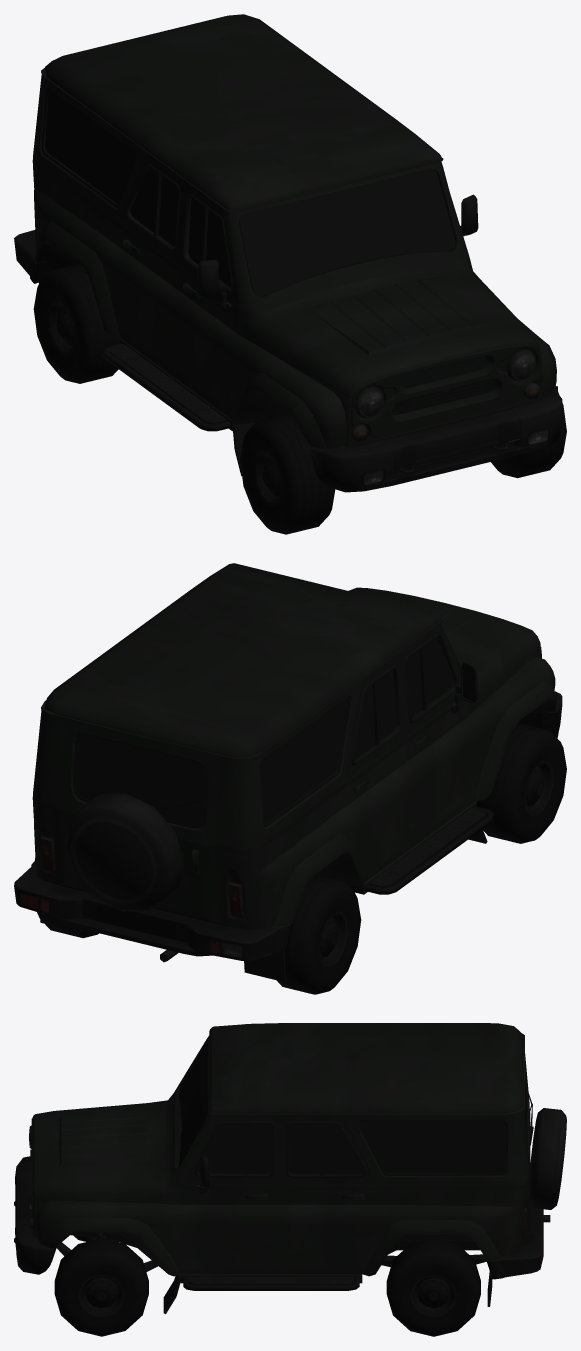
Rendered from UAZ_Explosion.FBX.
3 renders of one model, top to bottom at view 1: azimuth 30°, elevation 25°; view 2: azimuth 150°, elevation 25°; view 3: azimuth 270°, elevation 25°, orthographic. The views are drawn at different scales.
Parts seen in each view (by area): view 1: UAZ_Explosion, UAZ_wheel_FR, UAZ_wheel_RR, UAZ_wheel_FL; view 2: UAZ_Explosion, UAZ_wheel_FR, UAZ_wheel_RR; view 3: UAZ_Explosion, UAZ_wheel_FL, UAZ_wheel_RL.
Part boxes in pixels (x1,y1,x2,y2): UAZ_Explosion: (14, 14, 562, 492); UAZ_wheel_FR: (240, 413, 335, 534); UAZ_wheel_RR: (33, 263, 120, 383); UAZ_wheel_FL: (491, 392, 566, 478); UAZ_Explosion: (14, 563, 562, 982); UAZ_wheel_FR: (476, 723, 566, 843); UAZ_wheel_RR: (277, 874, 361, 994); UAZ_Explosion: (14, 1023, 566, 1313); UAZ_wheel_FL: (54, 1238, 148, 1336); UAZ_wheel_RL: (386, 1238, 480, 1336).
Size of the model in its own units: 236 by 216 by 480.
Materials: 2 (2 with a texture image).
